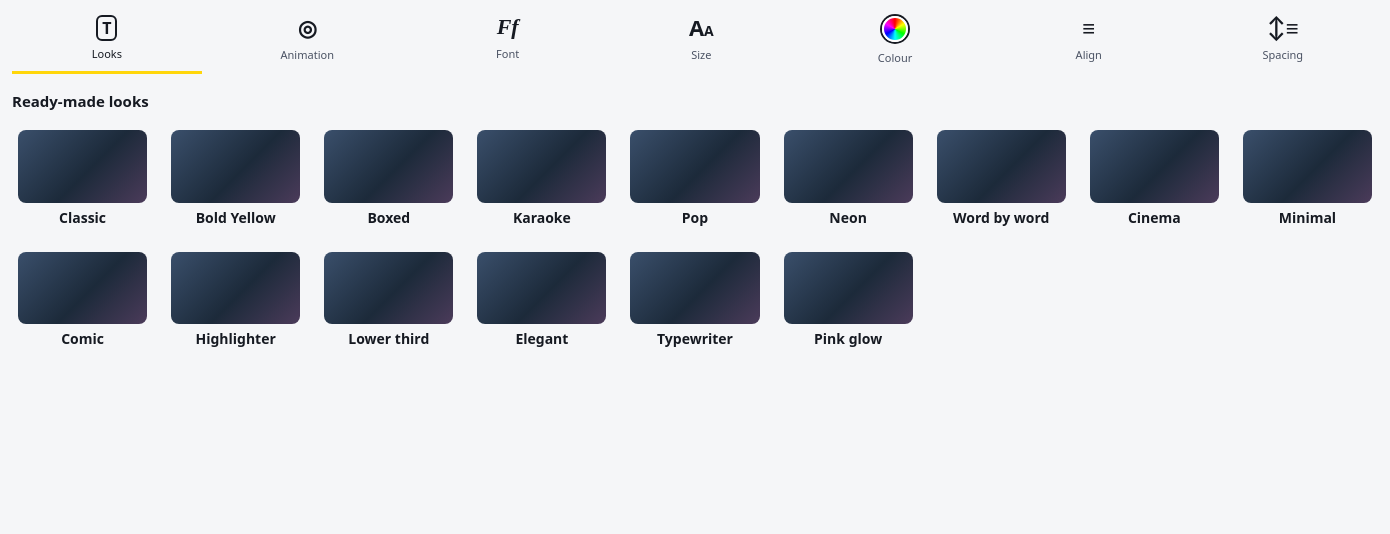
Test: Style tools › applies a look in one tap
Click the radio button labelled "Boxed": point(389, 179) 318,124 -> 459,234
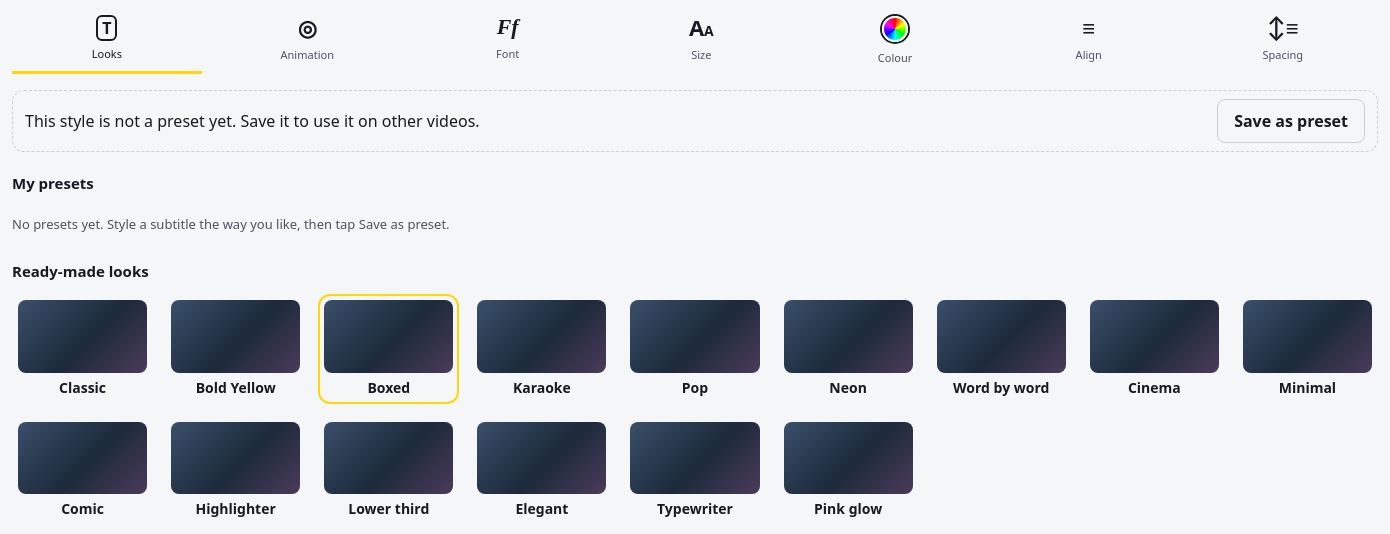
Check: the radio button labelled "Boxed" is checked, box 318,294 -> 459,404
